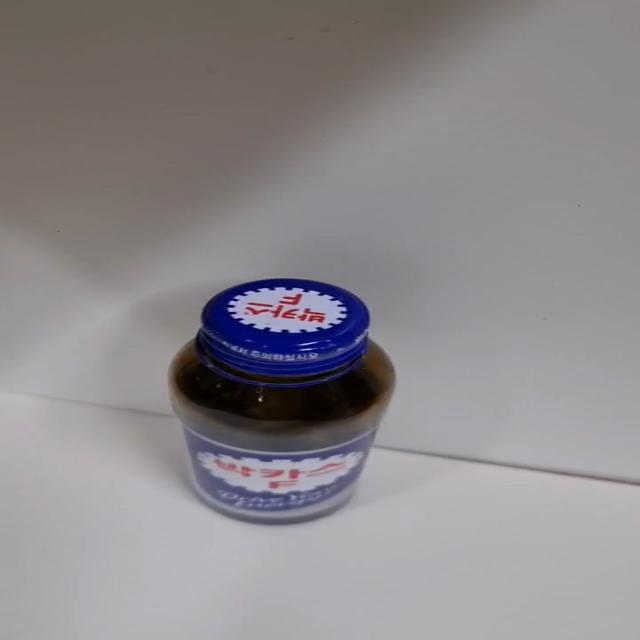Glass: (165, 280, 398, 528)
